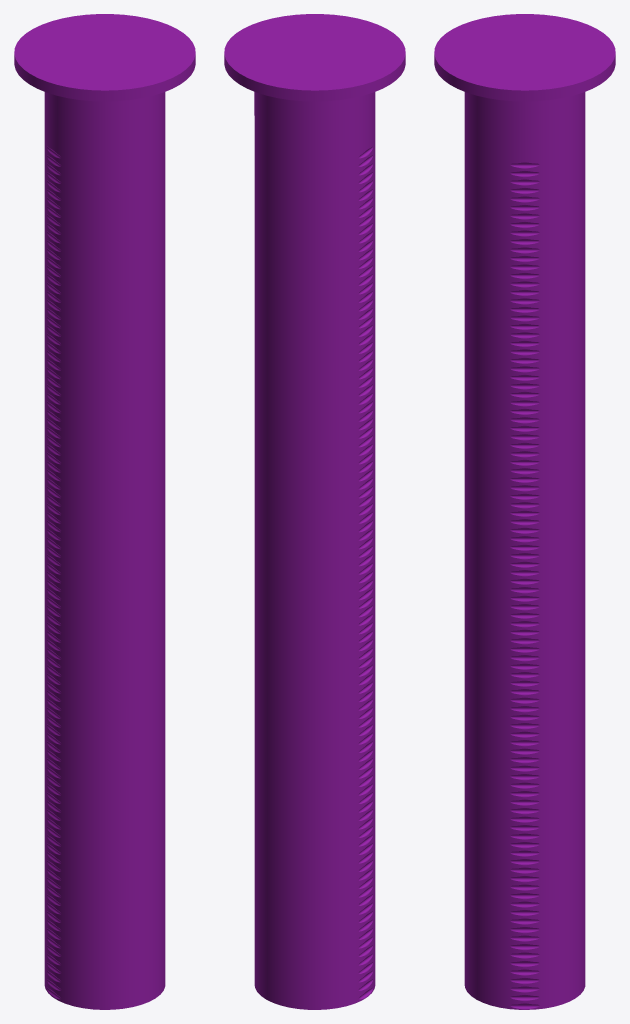
3 renders of one model, left to right at view 1: azimuth 30°, elevation 25°; view 2: azimuth 150°, elevation 25°; view 3: azimuth 270°, elevation 25°, orthographic.
Visible parts, largest first — view 1: ID2; view 2: ID2; view 3: ID2.
Boxes of the visible parts, box(x1,y1,x2,y2) form: ID2: box(14, 14, 195, 1009); ID2: box(224, 14, 405, 1009); ID2: box(434, 14, 615, 1009).
Size of the model in its own units: 0.1498 by 0.1499 by 0.85.
